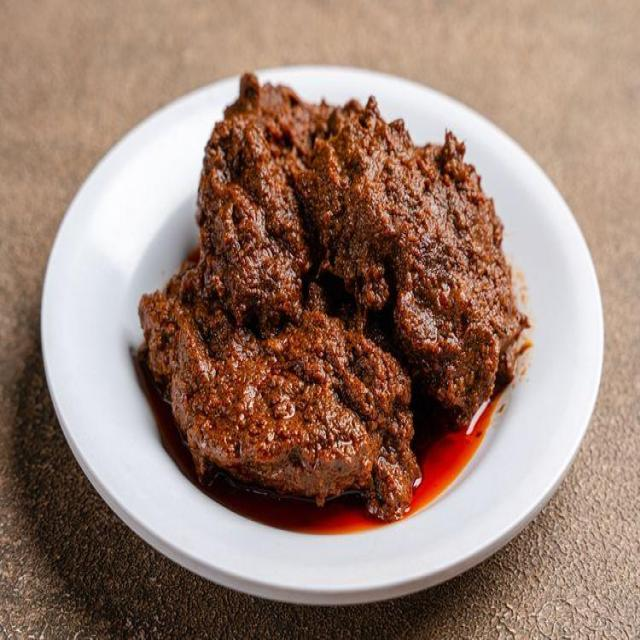Rendang: (132, 85, 542, 532)
